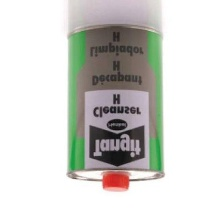cleaning_solution: (58, 21, 166, 196)
